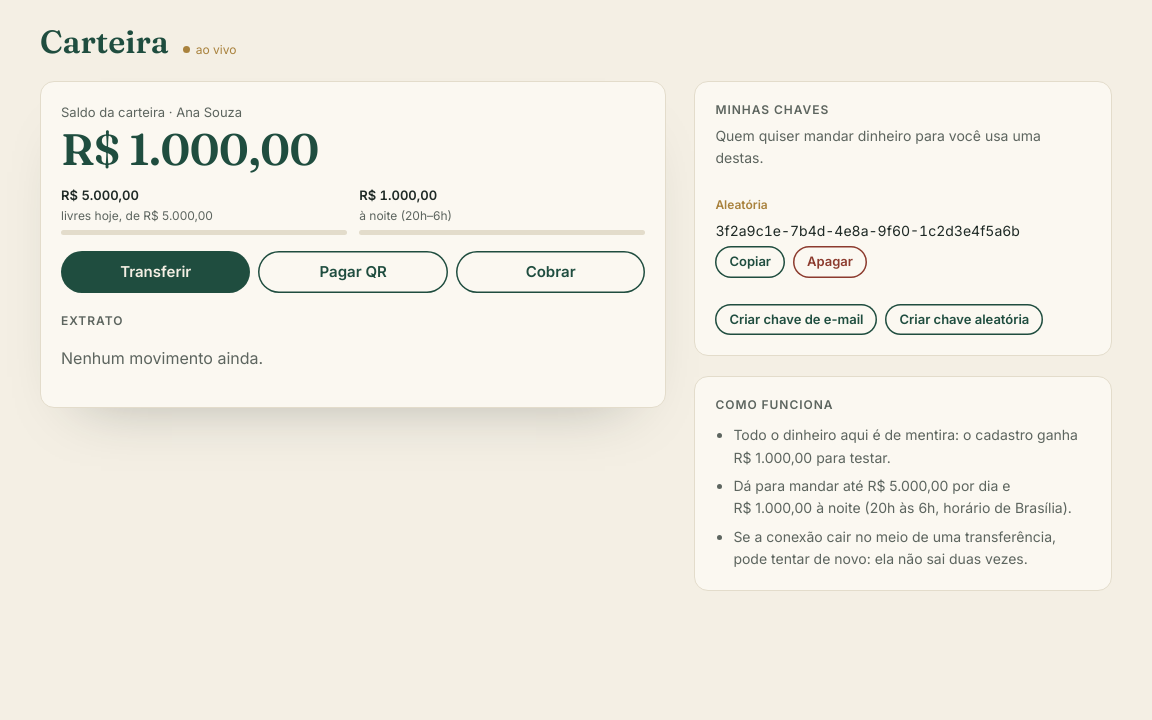
Minhas chaves › cópia recusada pelo navegador: diz para copiar à mão, sem "Copiada"
Click the button "Copiar" at x=750, y=262, box [715,246,785,278]
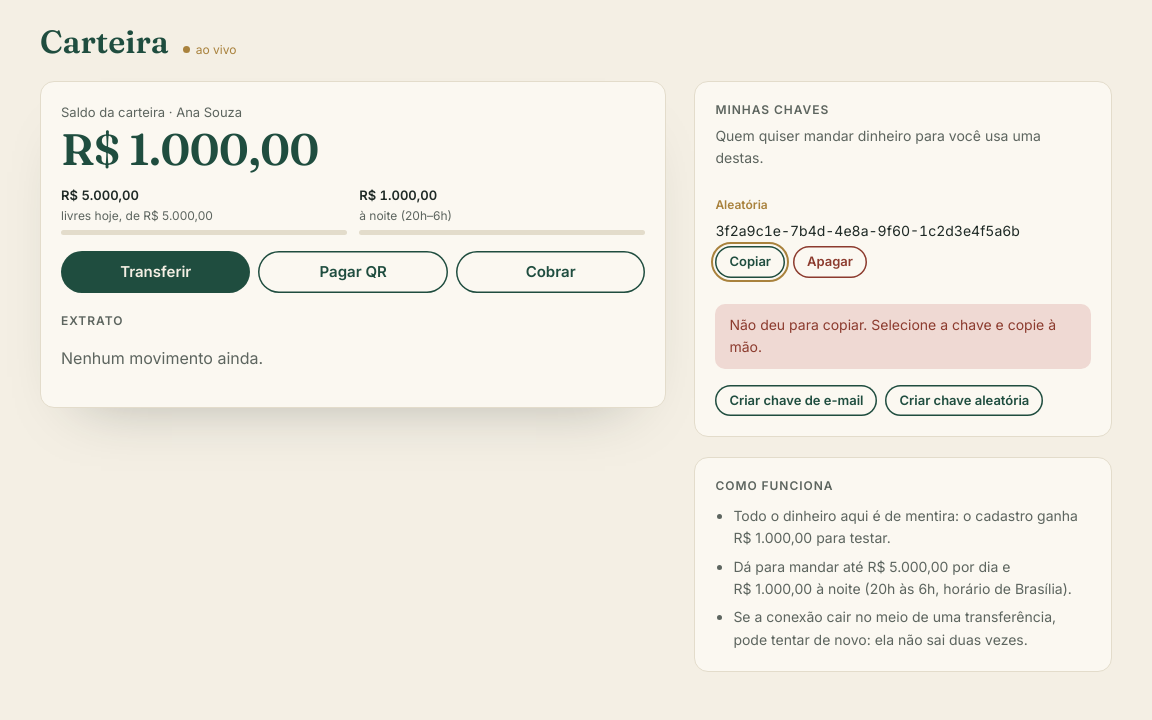
Result: the message reads "Não deu para copiar. Selecione a chave e copie à mão." at [729,316,1056,355]
